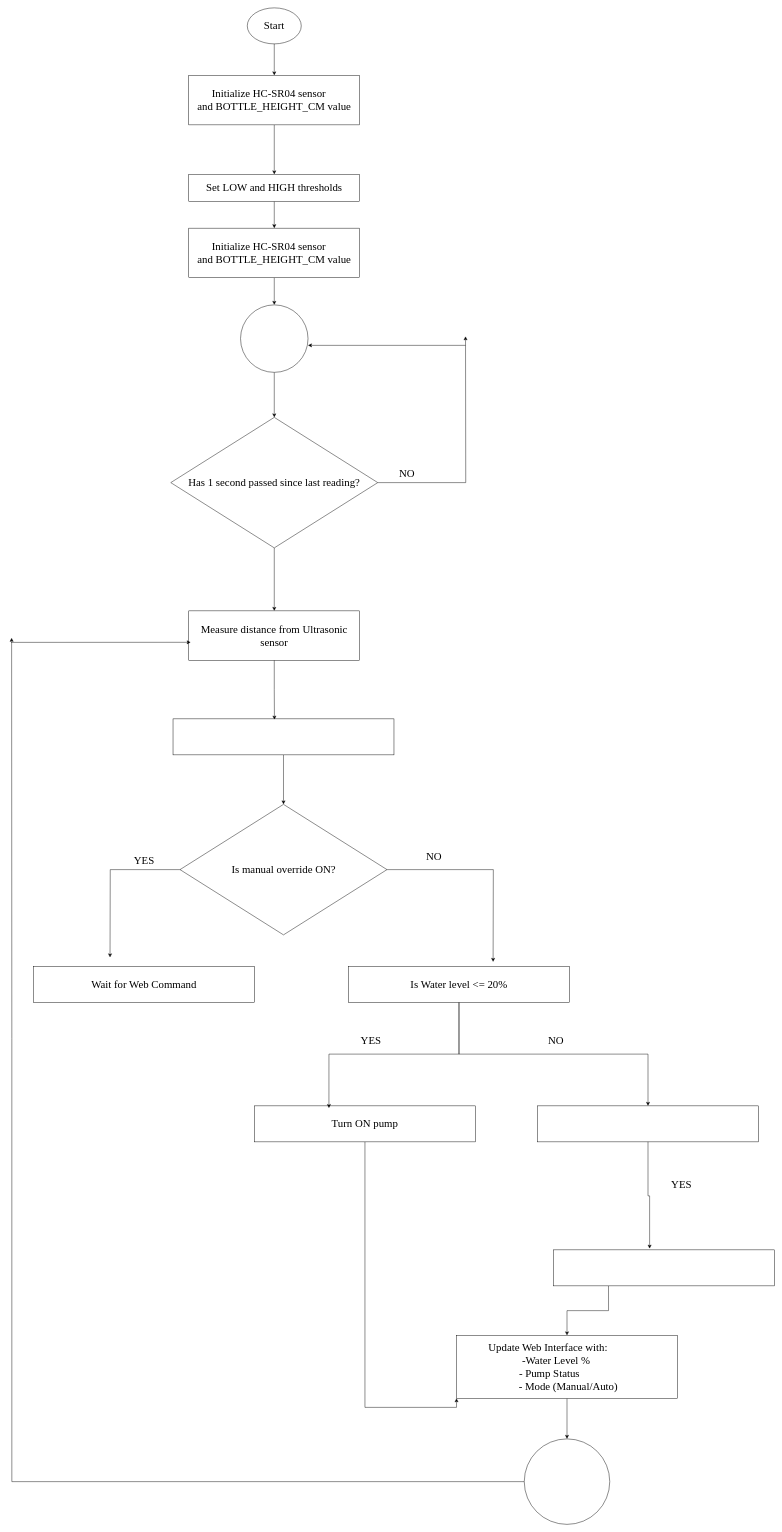
Some shapes in this 782 by 1532 pixel diagram are drawn without their labels. Each missing label, with the box of its shape:
Calculate: WaterLevel% = ((Max - Measured) / Max)* 100: (173, 718, 394, 755)
Is Water Level >= 80%: (537, 1105, 758, 1142)
Loop Back: (524, 1438, 610, 1524)
LOOP Start: (240, 304, 308, 372)
Turn OFF Pump: (553, 1249, 774, 1286)
